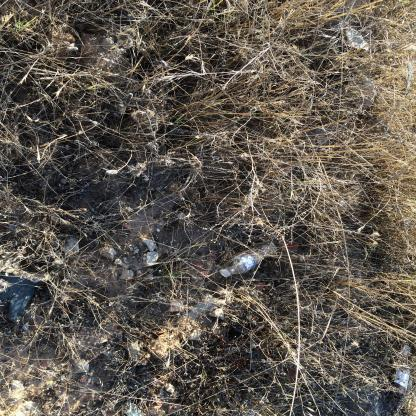plastik: (221, 243, 279, 279)
